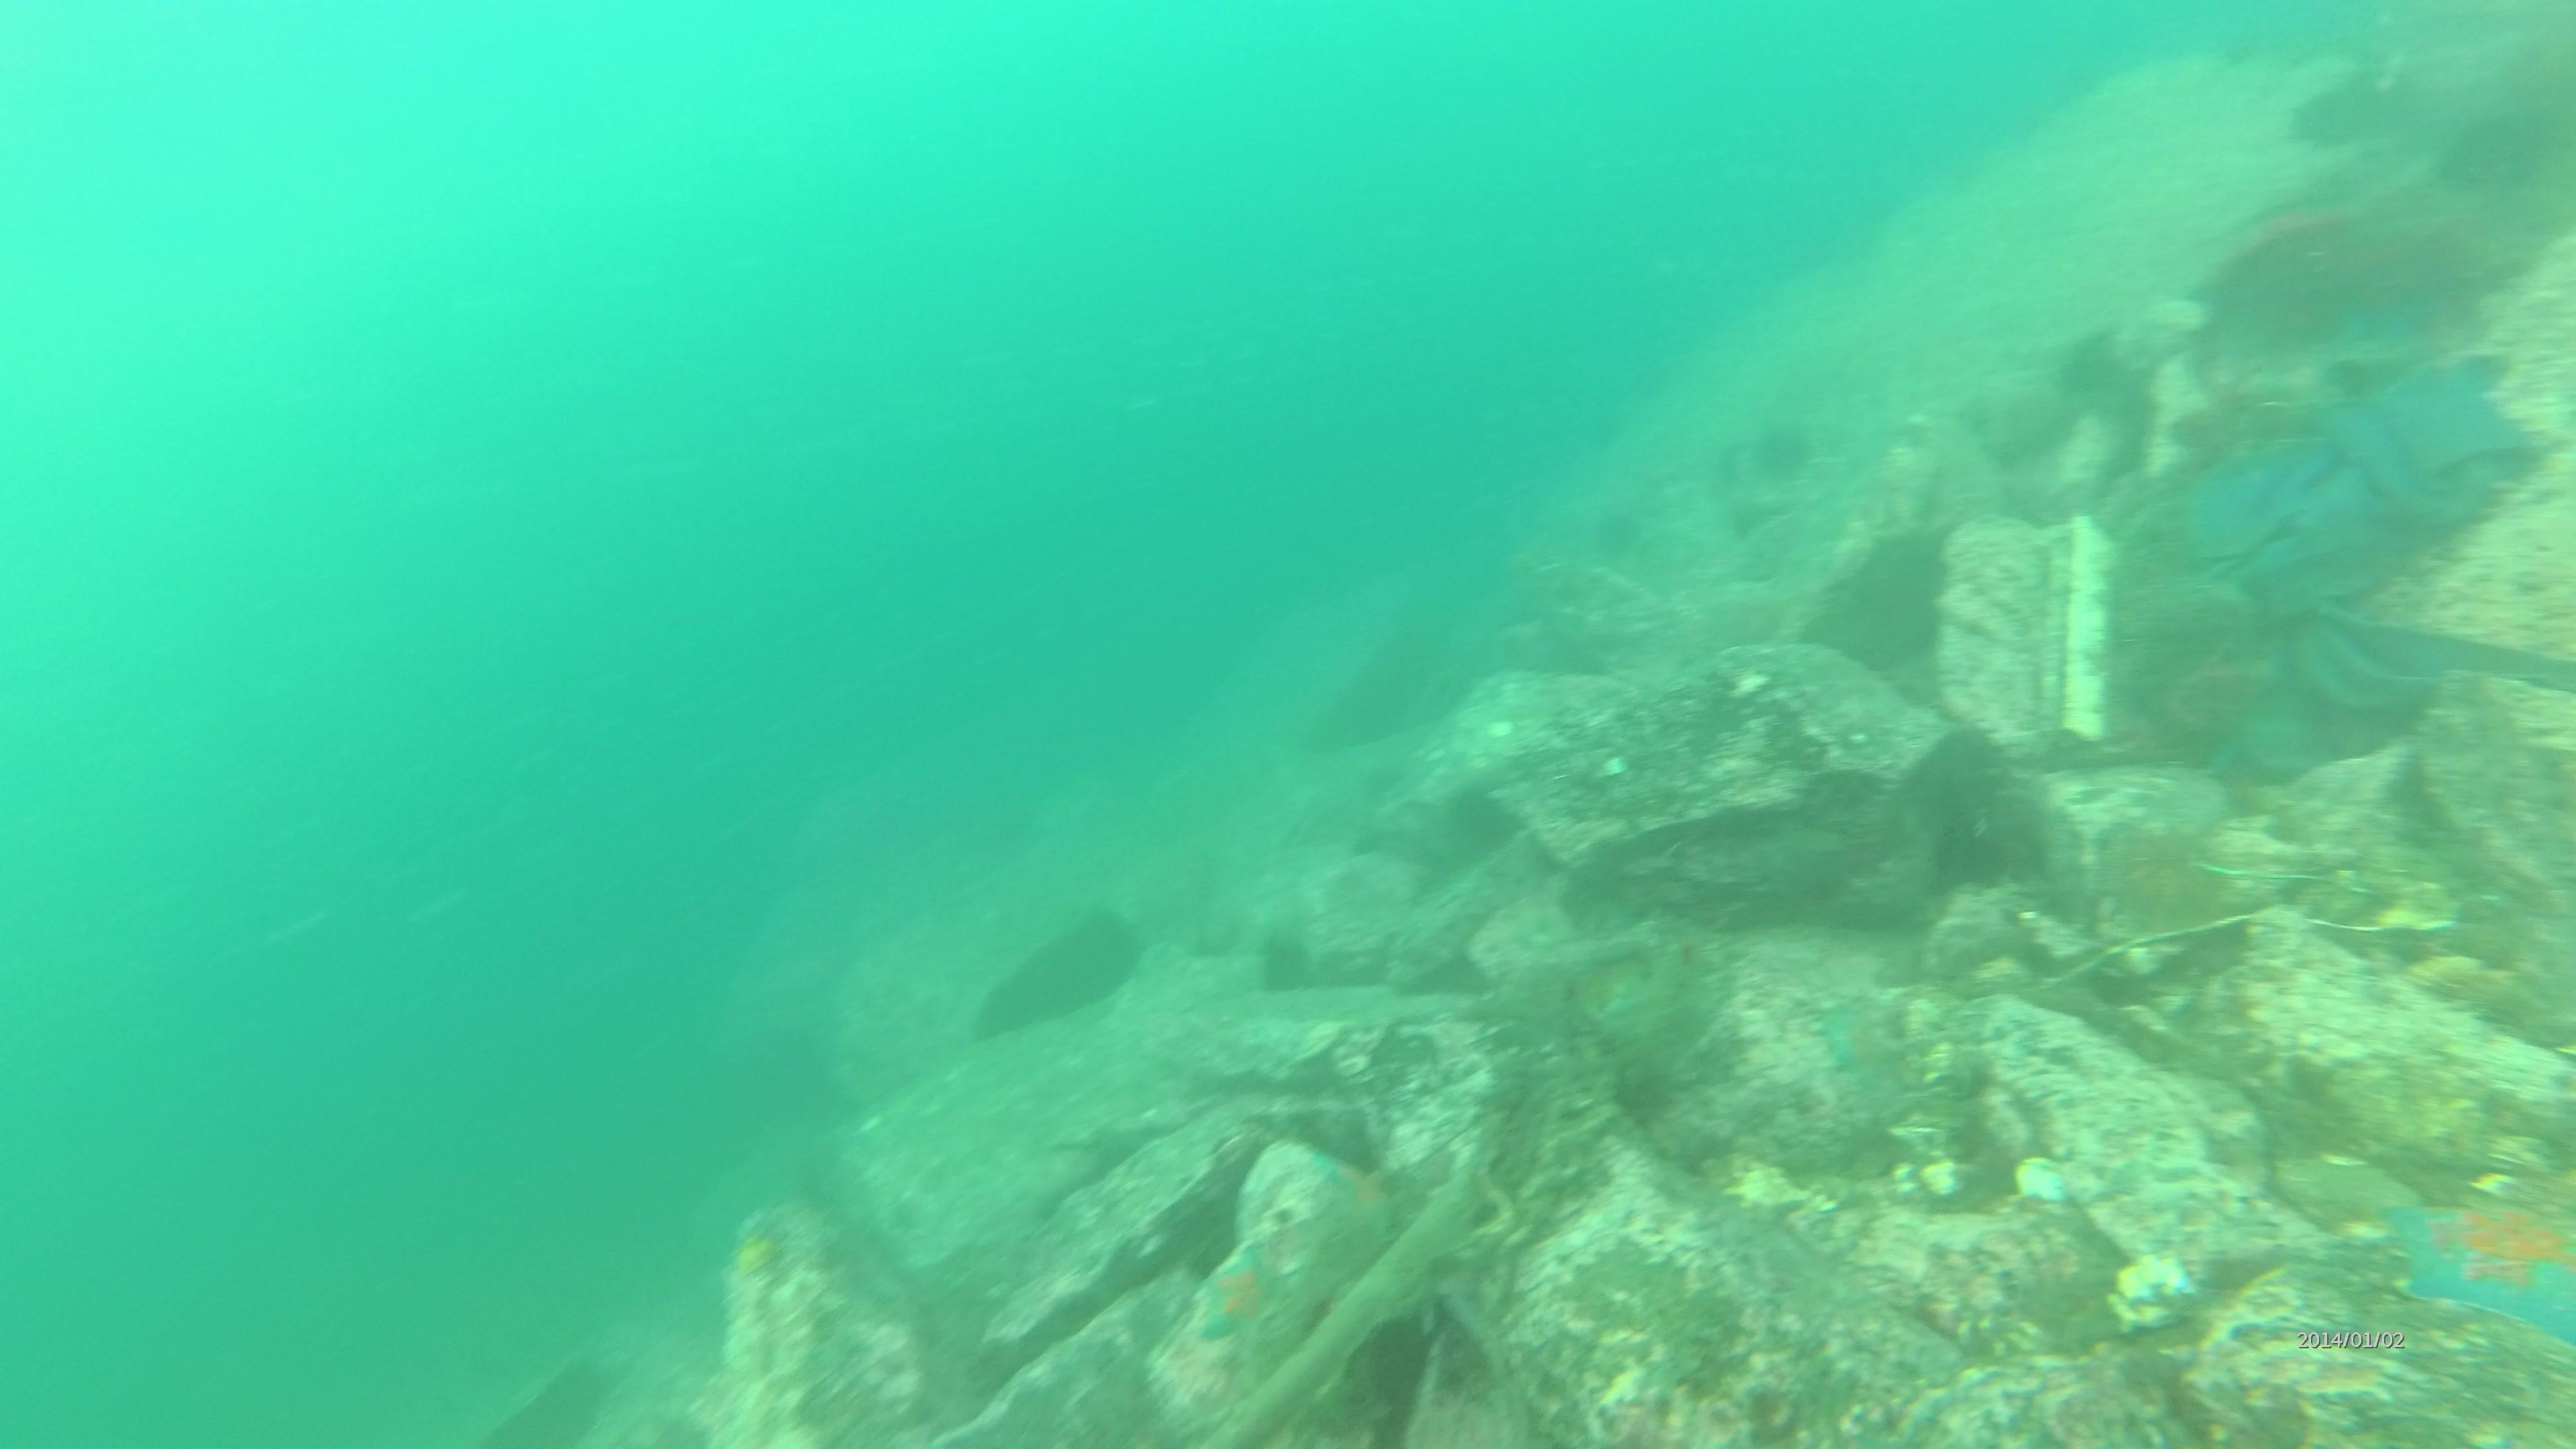echinus: (2093, 819, 2233, 939), (1743, 414, 1821, 488), (1249, 924, 1318, 998)
starfish: (2385, 1185, 2572, 1350), (1185, 1240, 1290, 1352), (1806, 991, 1909, 1085), (1311, 1152, 1392, 1235)
